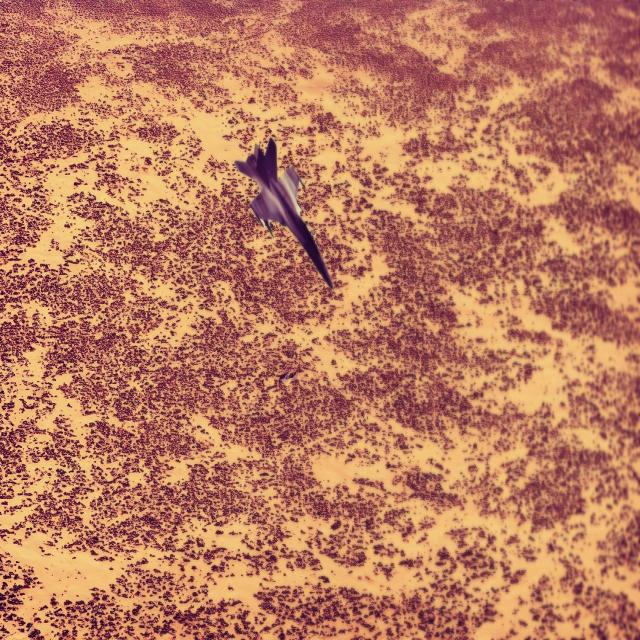airplane: (234, 136, 334, 290)
